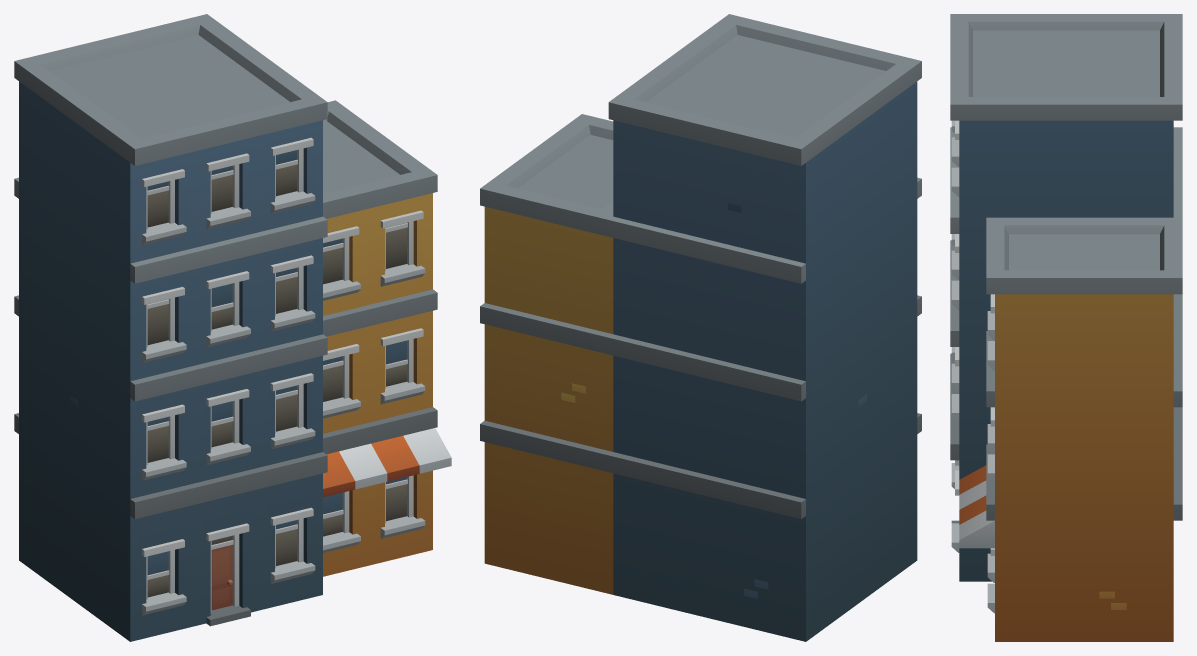
Rendered from city-building-h.glb.
3 views of the same model, side by side, from view 1: azimuth 30°, elevation 25°; view 2: azimuth 150°, elevation 25°; view 3: azimuth 270°, elevation 25° (orthographic). The views are drawn at different scales.
Visible parts, largest first — view 1: building_H_withoutBase; view 2: building_H_withoutBase; view 3: building_H_withoutBase.
Boxes of the visible parts, x1,y1,x2,y2 form: building_H_withoutBase: (14,14,451,641); building_H_withoutBase: (480,14,921,641); building_H_withoutBase: (950,14,1182,641).
Size of the model in its own units: 2.01 by 2.95 by 1.3.
